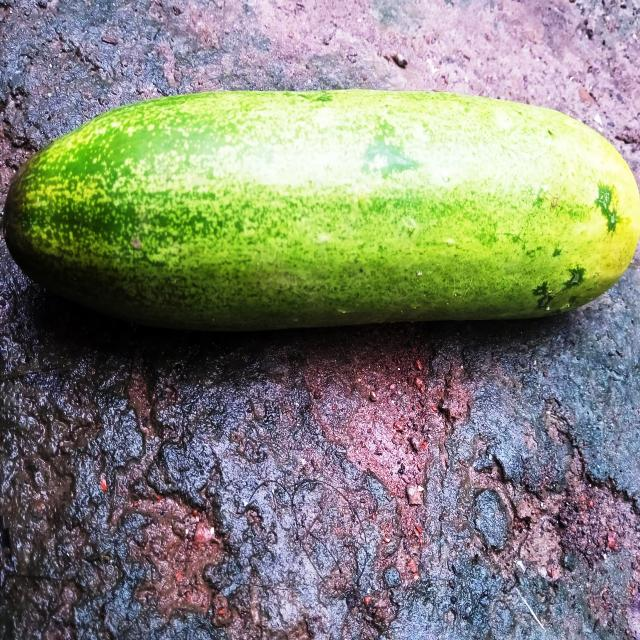Fresh-Cucumber: (3, 86, 640, 329)
